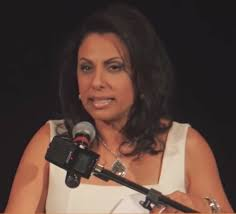middle_eastern_Female: (70, 20, 152, 123)
